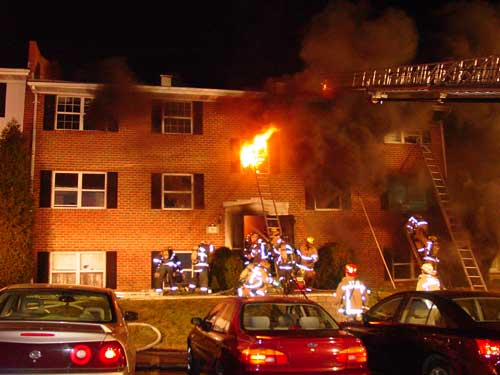fire: (237, 126, 273, 172)
smoke: (301, 12, 401, 105), (288, 121, 393, 189), (448, 106, 500, 231), (86, 64, 148, 134)
